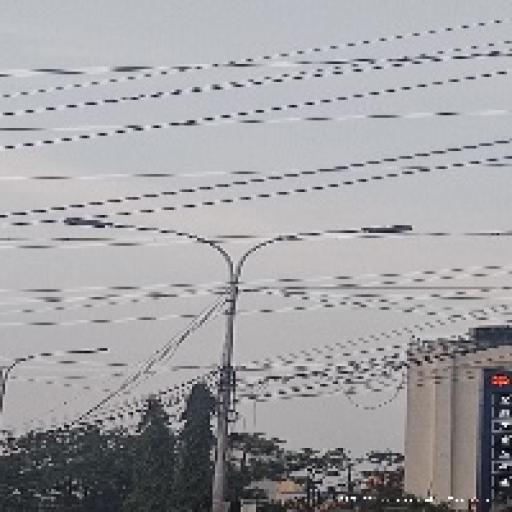Not Working: (60, 210, 127, 239), (355, 216, 418, 243)
